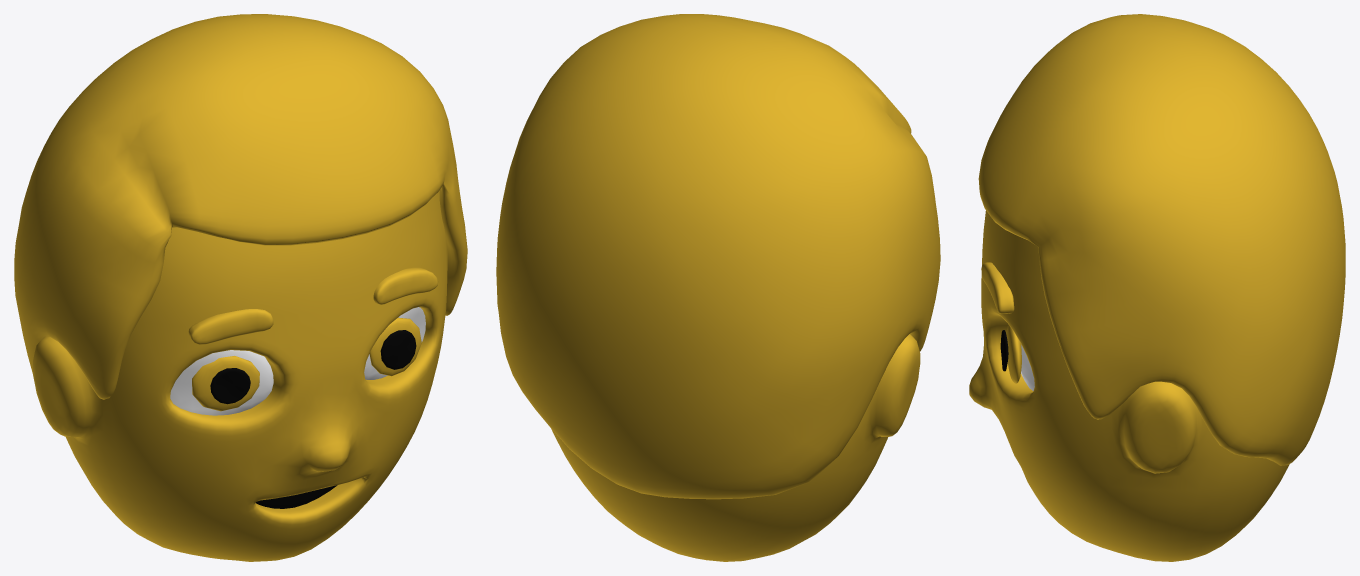
File: man FBX.glb
3 renders of one model, left to right at view 1: azimuth 30°, elevation 25°; view 2: azimuth 150°, elevation 25°; view 3: azimuth 270°, elevation 25°, orthographic. The views are drawn at different scales.
Visible parts, largest first — view 1: Group27742, Group003, Group52900, Group1, ZBrush_defualt_group001, ZBrush_defualt_group, ZBrush_defualt_group002, Group002, Group5453; view 2: Group27742, Group003; view 3: Group27742, Group003, ZBrush_defualt_group, Group002.
Boxes of the visible parts, box(x1,y1,x2,y2) form: Group27742: box(14, 14, 467, 399); Group003: box(33, 190, 447, 561); Group52900: box(170, 307, 425, 415); Group1: box(188, 309, 273, 344); ZBrush_defualt_group001: box(192, 356, 259, 411); ZBrush_defualt_group: box(373, 267, 437, 304); ZBrush_defualt_group002: box(210, 368, 250, 404); Group002: box(369, 317, 421, 376); Group5453: box(255, 485, 337, 508); Group27742: box(496, 14, 940, 499); Group003: box(551, 334, 920, 561); Group27742: box(978, 14, 1345, 465); Group003: box(969, 211, 1289, 561); ZBrush_defualt_group: box(981, 262, 1014, 313); Group002: box(1006, 324, 1021, 383).
Size of the model in its own units: 0.4263 by 0.5289 by 0.3578.
